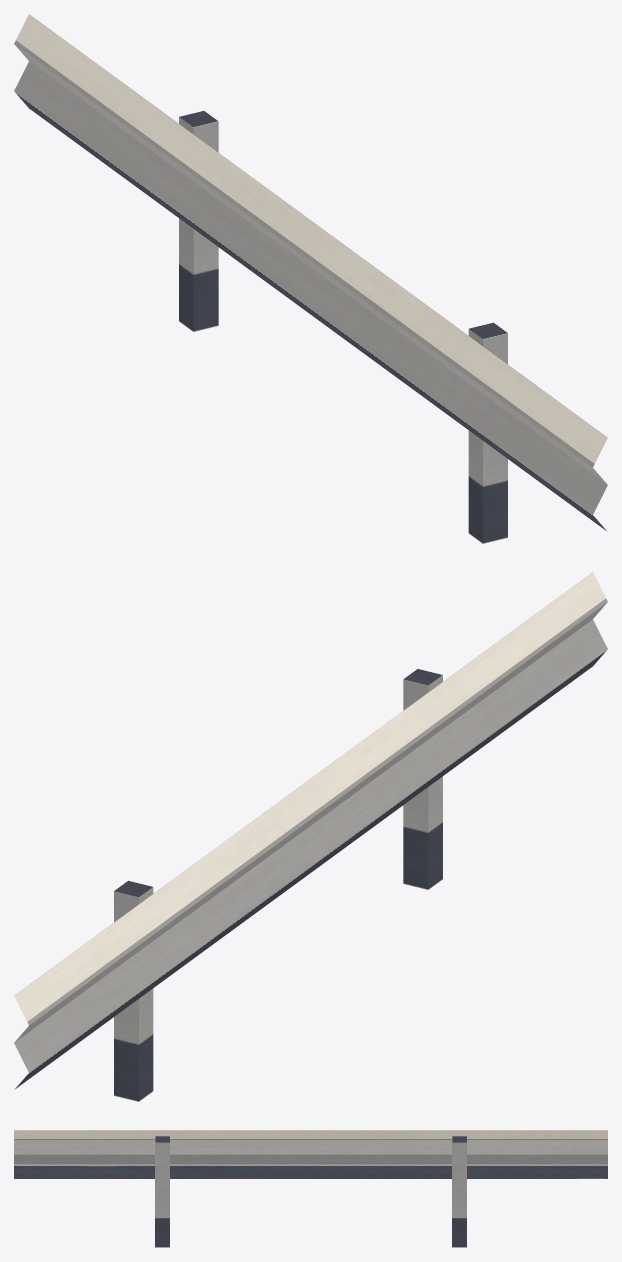
Rendered from lot_guardrail.glb.
3 renders of one model, top to bottom at view 1: azimuth 30°, elevation 25°; view 2: azimuth 150°, elevation 25°; view 3: azimuth 270°, elevation 25°, orthographic. The views are drawn at different scales.
Parts seen in each view (by area): view 1: lot_guardrail; view 2: lot_guardrail; view 3: lot_guardrail.
Part boxes in pixels (bbox=[...]): lot_guardrail: bbox=[14, 14, 607, 543]; lot_guardrail: bbox=[14, 572, 607, 1101]; lot_guardrail: bbox=[14, 1130, 607, 1247].
Size of the model in its own units: 0.21 by 0.8 by 4.
1 material, 1 textured.
